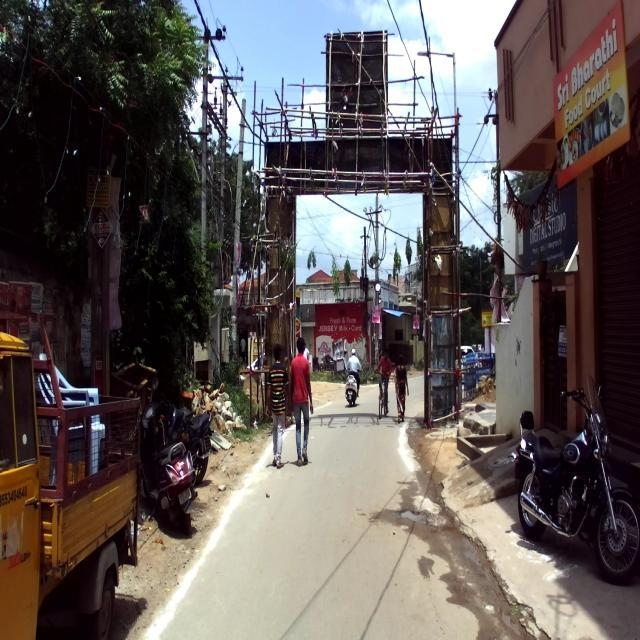Pothole: (490, 553, 554, 640), (402, 502, 447, 530), (461, 523, 478, 538)
